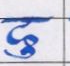u_matra: (4, 47, 38, 60)
